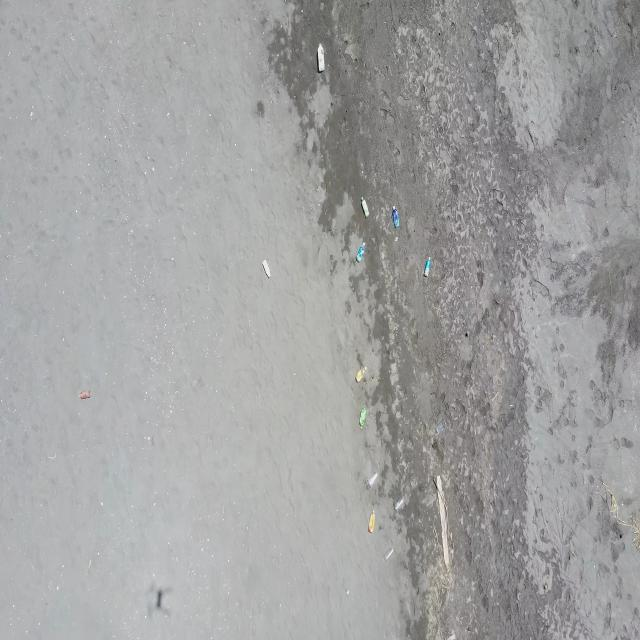plastic-bottle: (316, 44, 326, 75), (355, 366, 367, 383), (356, 242, 366, 262), (383, 547, 394, 563), (393, 205, 400, 229), (368, 510, 375, 533), (361, 197, 368, 219), (359, 408, 366, 430), (424, 256, 431, 278), (262, 259, 270, 278)
takeaway-cup: (367, 471, 378, 488), (394, 496, 404, 513)
